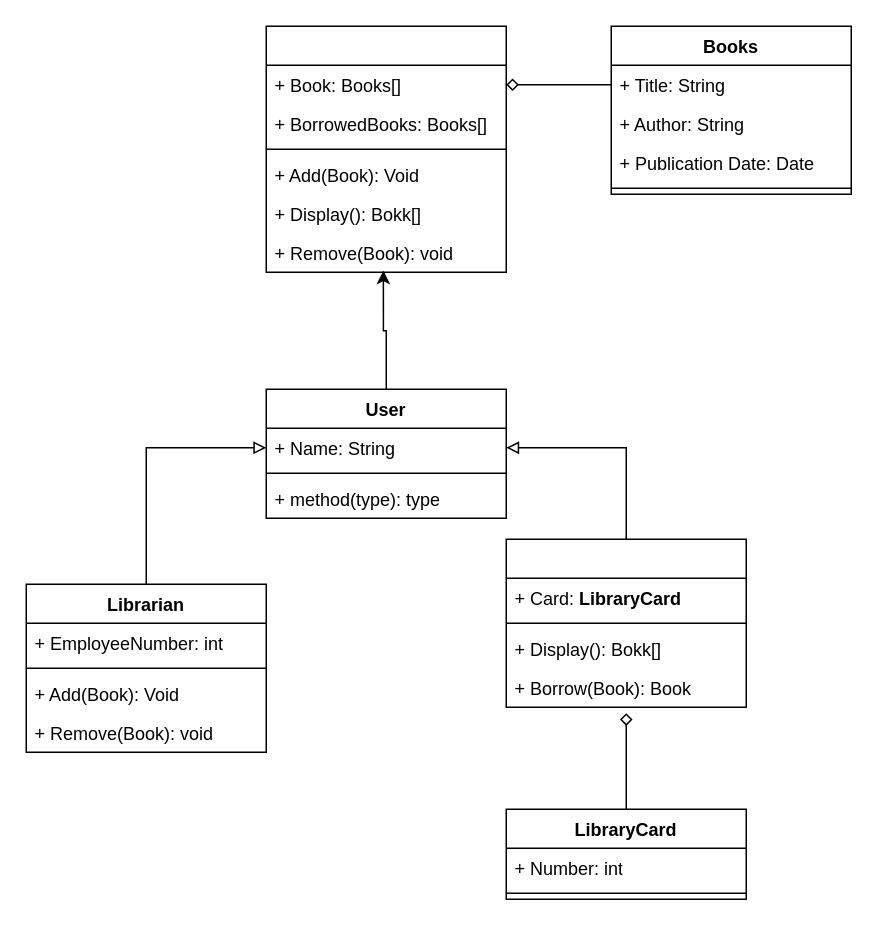
Image size: 878x926. Some labels were removed from this diagram. The box of each missing label's shape, as (x1, y1, x2, y2) in pixels:
Library: (265, 25, 506, 272)
LibraryUser: (505, 538, 746, 707)
